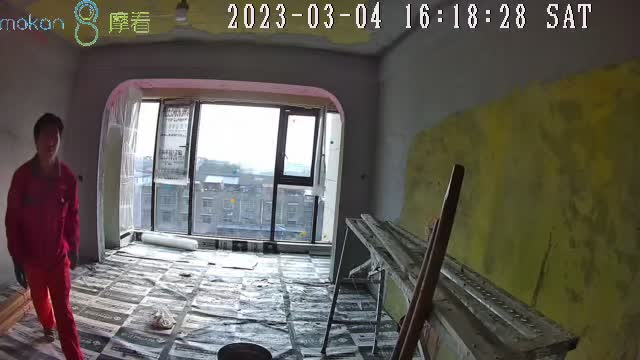people: (6, 112, 84, 360)
window: (129, 97, 339, 252)
